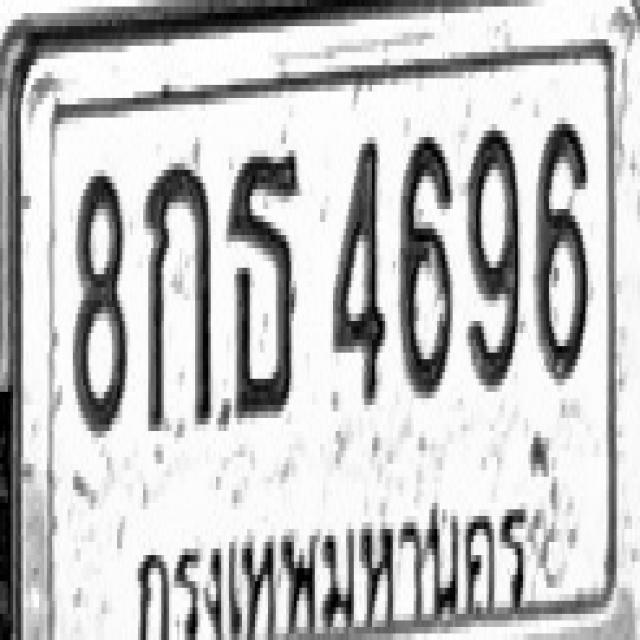10GorGai: (143, 157, 211, 431)
33ThorThong: (225, 144, 301, 418)
4: (330, 131, 385, 405)
6: (398, 130, 453, 398), (535, 118, 589, 378)
8: (72, 166, 126, 434)
9: (466, 128, 520, 388)
Bangkok: (125, 495, 537, 640)
